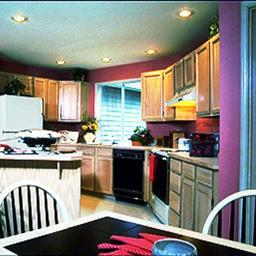Electrodomestico: (113, 148, 146, 201), (151, 149, 170, 218)
